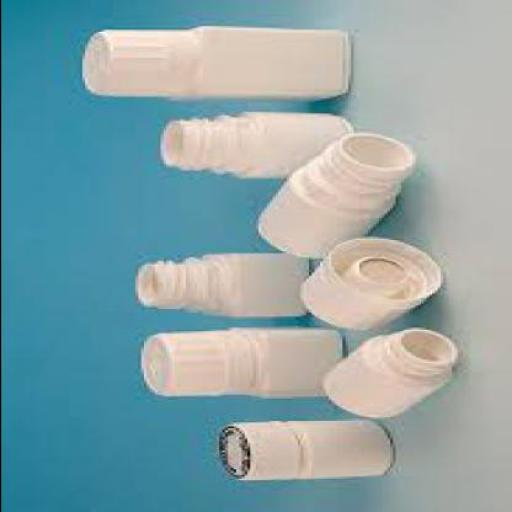plastic: (76, 22, 346, 102), (252, 128, 416, 256), (137, 324, 342, 398), (156, 108, 350, 179), (293, 237, 445, 325), (316, 328, 459, 418), (128, 250, 304, 314), (215, 419, 395, 477), (78, 26, 199, 95), (137, 328, 252, 394), (215, 420, 299, 477)
